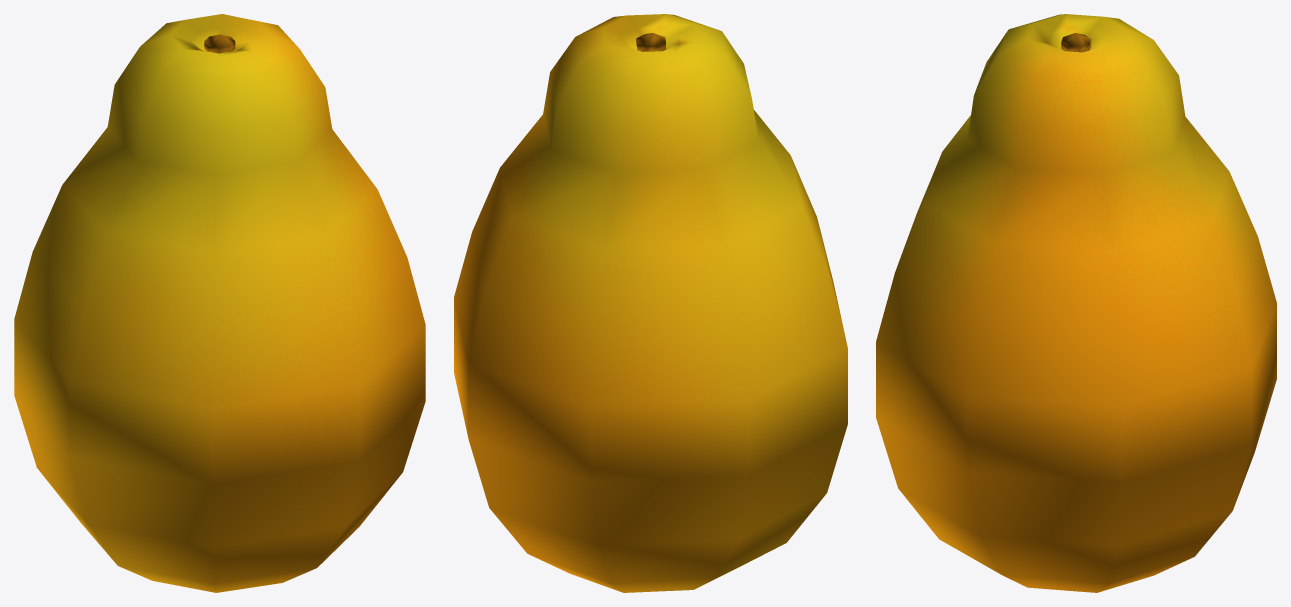
Rendered from Papaya.fbx.
3 renders of one model, left to right at view 1: azimuth 30°, elevation 25°; view 2: azimuth 150°, elevation 25°; view 3: azimuth 270°, elevation 25°, orthographic.
Visible parts, largest first — view 1: Papaya; view 2: Papaya; view 3: Papaya.
Part boxes in pixels (bbox=[...]): Papaya: bbox=[14, 14, 425, 592]; Papaya: bbox=[454, 14, 847, 592]; Papaya: bbox=[876, 14, 1276, 592].
Bounding box in the file's own units: 292 × 433 × 292.
1 material, 1 textured.
